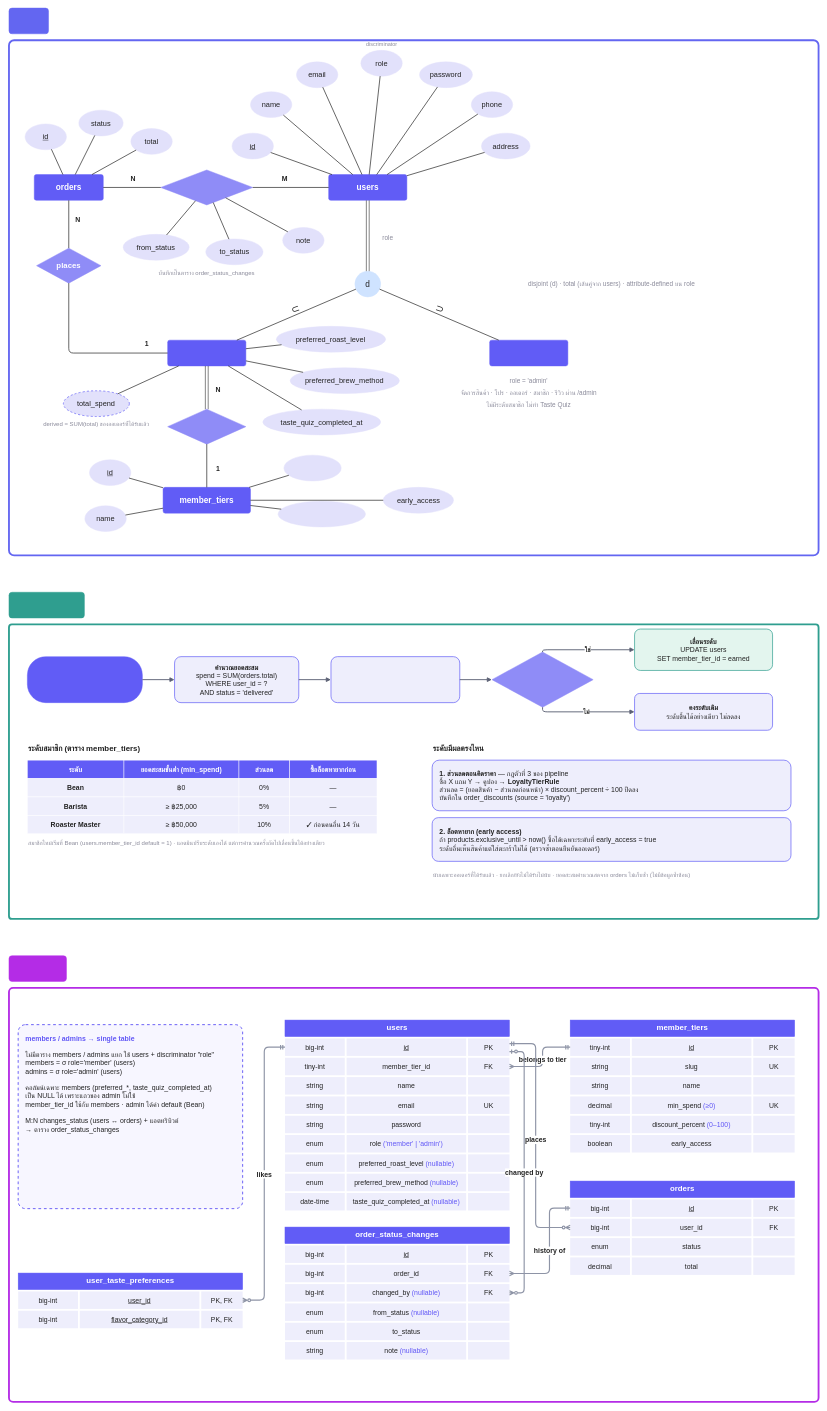
Some shapes in this 827 by 1411 pixel diagram are drawn without their labels. Here are the shapes that lost their labels. From the top down, the centre of each, then its label:
pixel 29 21: Chen
pixel 206 187: changes_status
pixel 206 353: members
pixel 528 353: admins
pixel 206 426: belongs_to
pixel 312 468: min_spend
pixel 322 514: discount_percent
pixel 46 605: Tier logic
pixel 84 679: แอดมินเปลี่ยนออเดอร์เป็น "ได้รับแล้ว" (delivered) Order::markDelivered()
pixel 395 679: หาระดับที่ได้ earned = ระดับที่ min_spend ≤ spend ที่สูงที่สุด
pixel 542 679: earned สูงกว่า ระดับปัจจุบัน?
pixel 37 968: Mermaid
